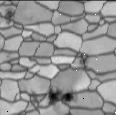good_void: (43, 85, 84, 108), (3, 6, 19, 25)
